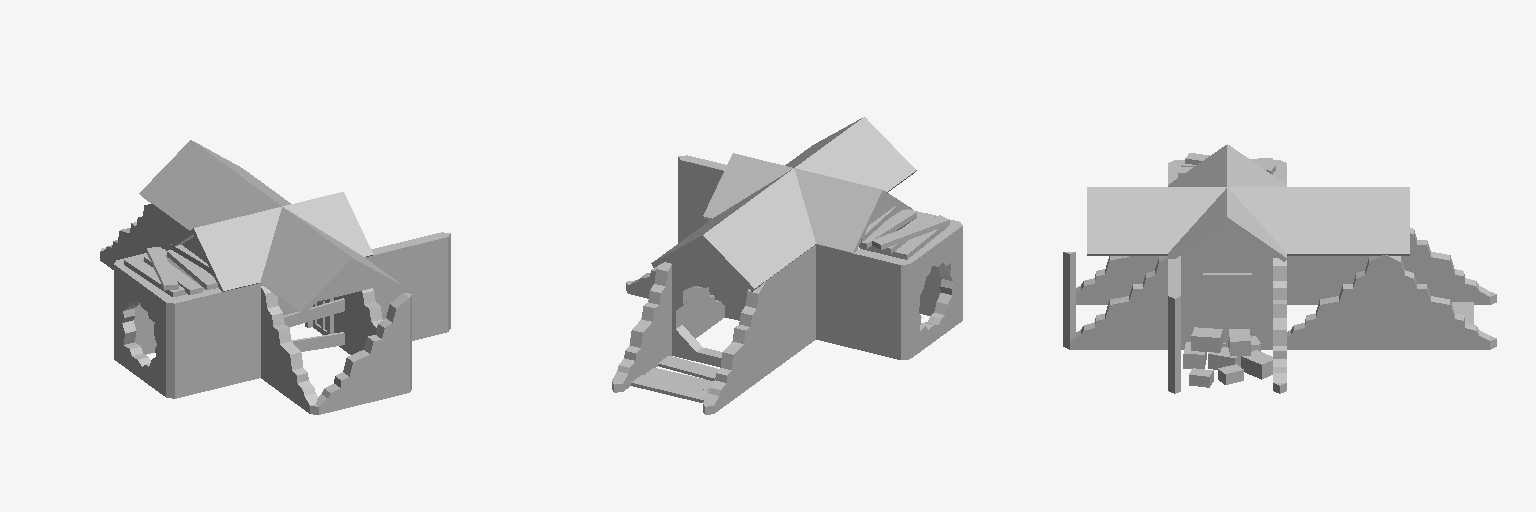
The model's file is Casa 3 Semi Rota.obj.
The picture shows the model from 3 angles: view 1: azimuth 30°, elevation 25°; view 2: azimuth 150°, elevation 25°; view 3: azimuth 270°, elevation 25°; orthographic projection.
Size of the model in its own units: 3.12 by 1.44 by 4.12.